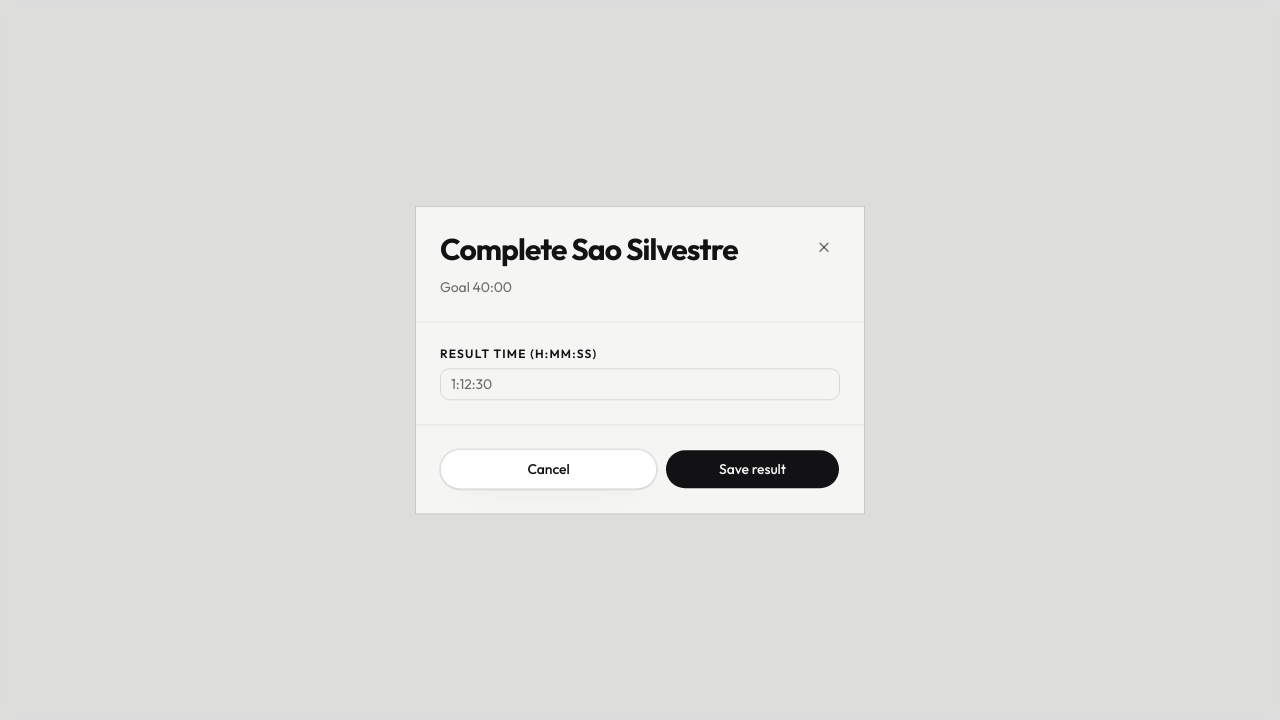
Test: CompleteRaceDialog › shows the delta while typing
This screenshot has width=1280, height=720.
In the field with test id "complete-result": coordinates (640, 384) [440,368,840,400], type "41:42"
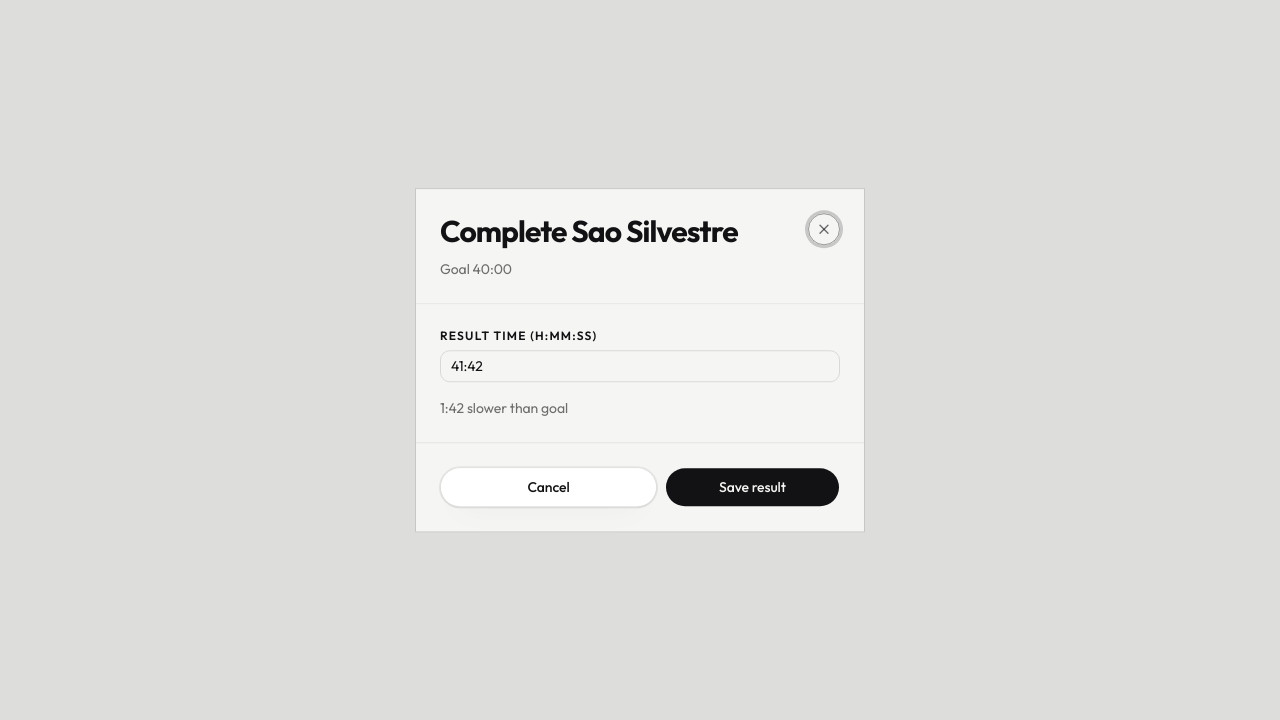
Expected: the text with test id "complete-delta" reads "1:42 slower than goal", [440,399,568,417]
